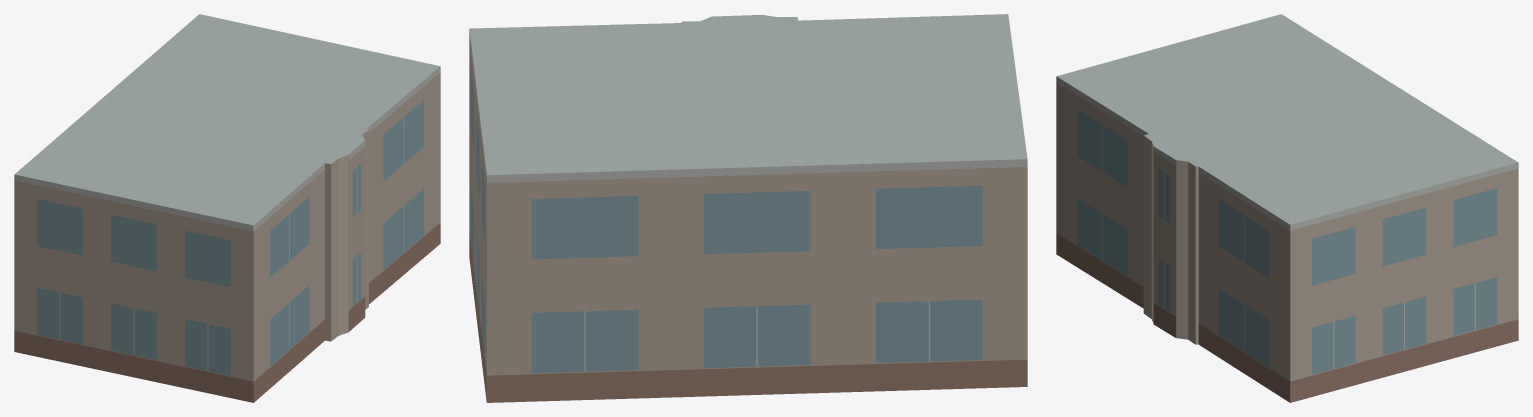
The model's file is survey-upis-32993199.glb.
3 views of the same model, side by side, from view 1: azimuth 30°, elevation 25°; view 2: azimuth 150°, elevation 25°; view 3: azimuth 270°, elevation 25° (orthographic). The views are drawn at different scales.
Visible parts, largest first — view 1: survey-upis-32993199.tmp; view 2: survey-upis-32993199.tmp; view 3: survey-upis-32993199.tmp.
Part boxes in pixels (x1=…): survey-upis-32993199.tmp: x1=14, y1=14, x2=440, y2=402; survey-upis-32993199.tmp: x1=469, y1=14, x2=1027, y2=402; survey-upis-32993199.tmp: x1=1056, y1=14, x2=1518, y2=402.
Bounding box in the file's own units: 18.3 × 7.2 × 16.95.
